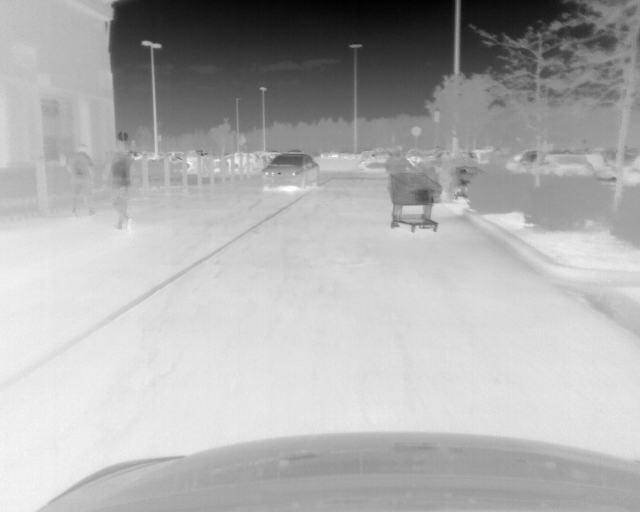car: (262, 153, 321, 188)
people: (102, 144, 134, 232), (386, 148, 418, 230), (69, 143, 96, 217), (419, 154, 442, 230)
